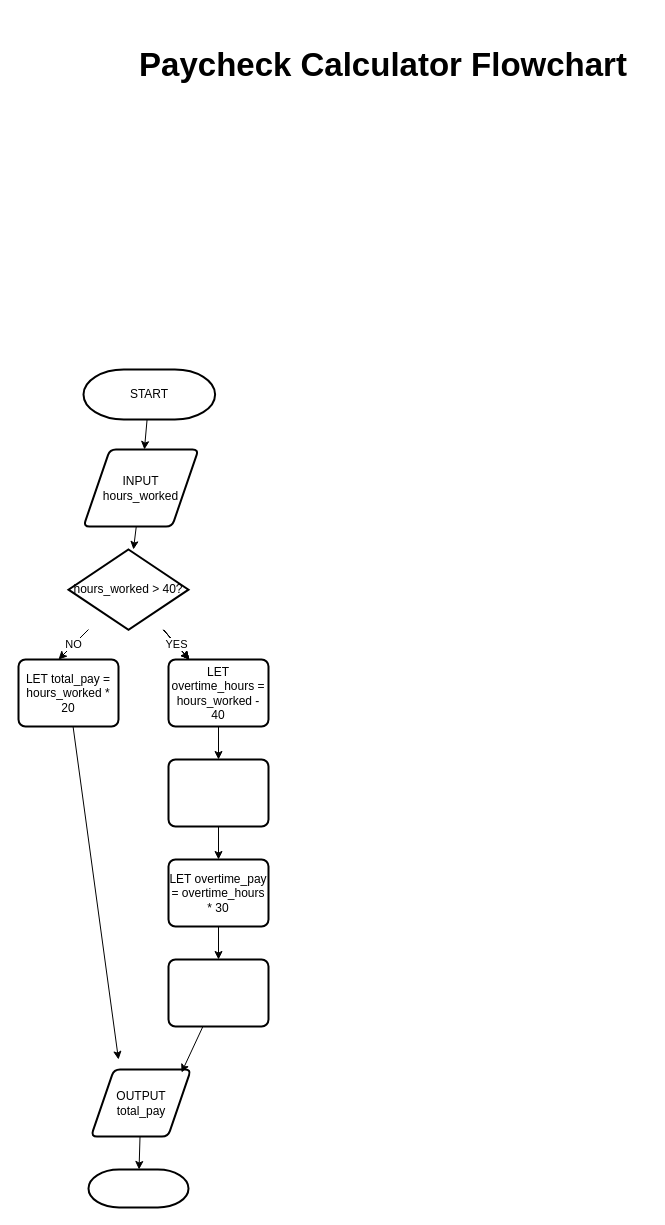
The diagram is 665 pixels wide and 1225 high, and some of its shapes have lost their labels. The shapes that lost their labels are listed below. From the top down, each one's centre as x and y in pixels, then its label:
At (x=218, y=792): "LET regular_pay = 40 * 20".
At (x=218, y=992): "LET total_pay = regular_pay + overtime_pay".
At (x=138, y=1188): "END".
